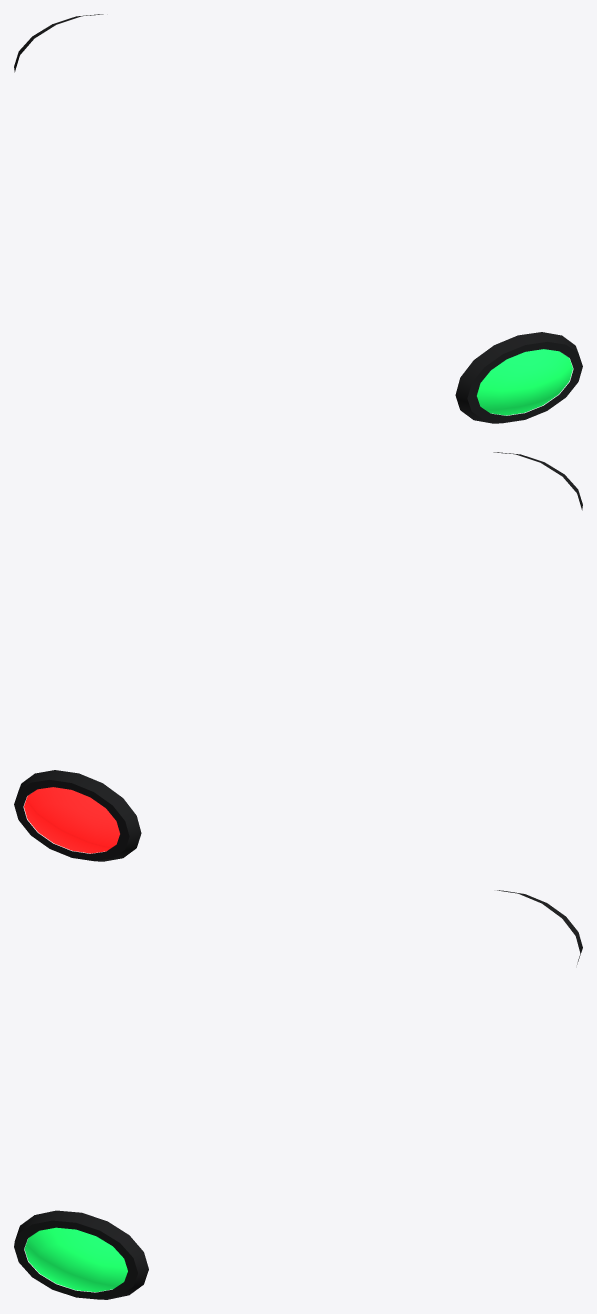
3 renders of one model, top to bottom at view 1: azimuth 30°, elevation 25°; view 2: azimuth 150°, elevation 25°; view 3: azimuth 330°, elevation 25°, orthographic.
Visible parts, largest first — view 1: xs_el3_navlight_stbd_420s; view 2: xs_el3_navlight_port_420s; view 3: xs_el3_navlight_stbd_420s.
Part boxes in pixels (<box>): xs_el3_navlight_stbd_420s: <box>455,332,582,423</box>; xs_el3_navlight_port_420s: <box>14,770,141,861</box>; xs_el3_navlight_stbd_420s: <box>14,1210,148,1299</box>.
Size of the model in its own units: 0.0798 by 0.05 by 0.4951.
